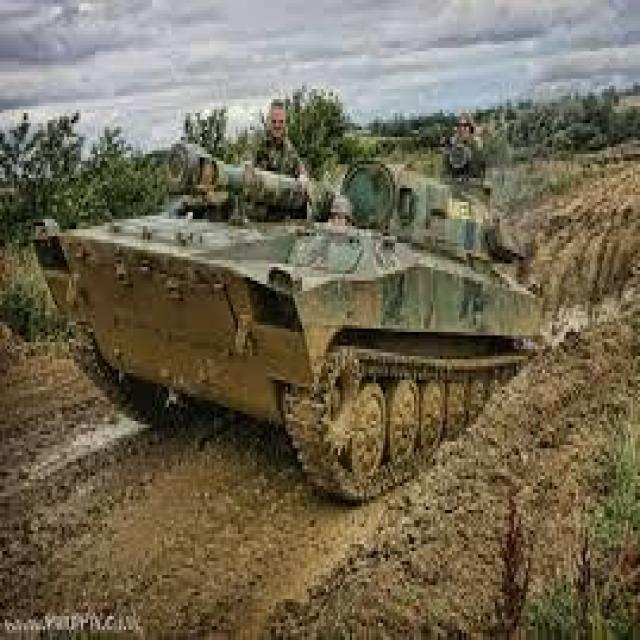Tanks: (33, 63, 557, 556)
